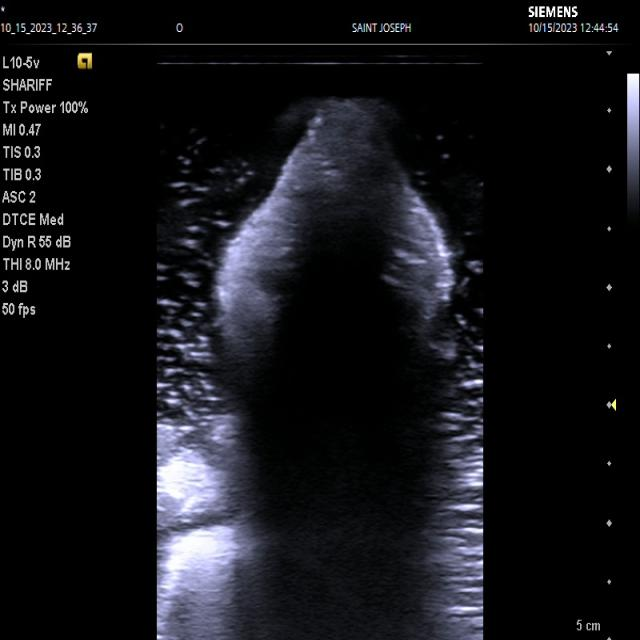tissue: (158, 101, 482, 640)
